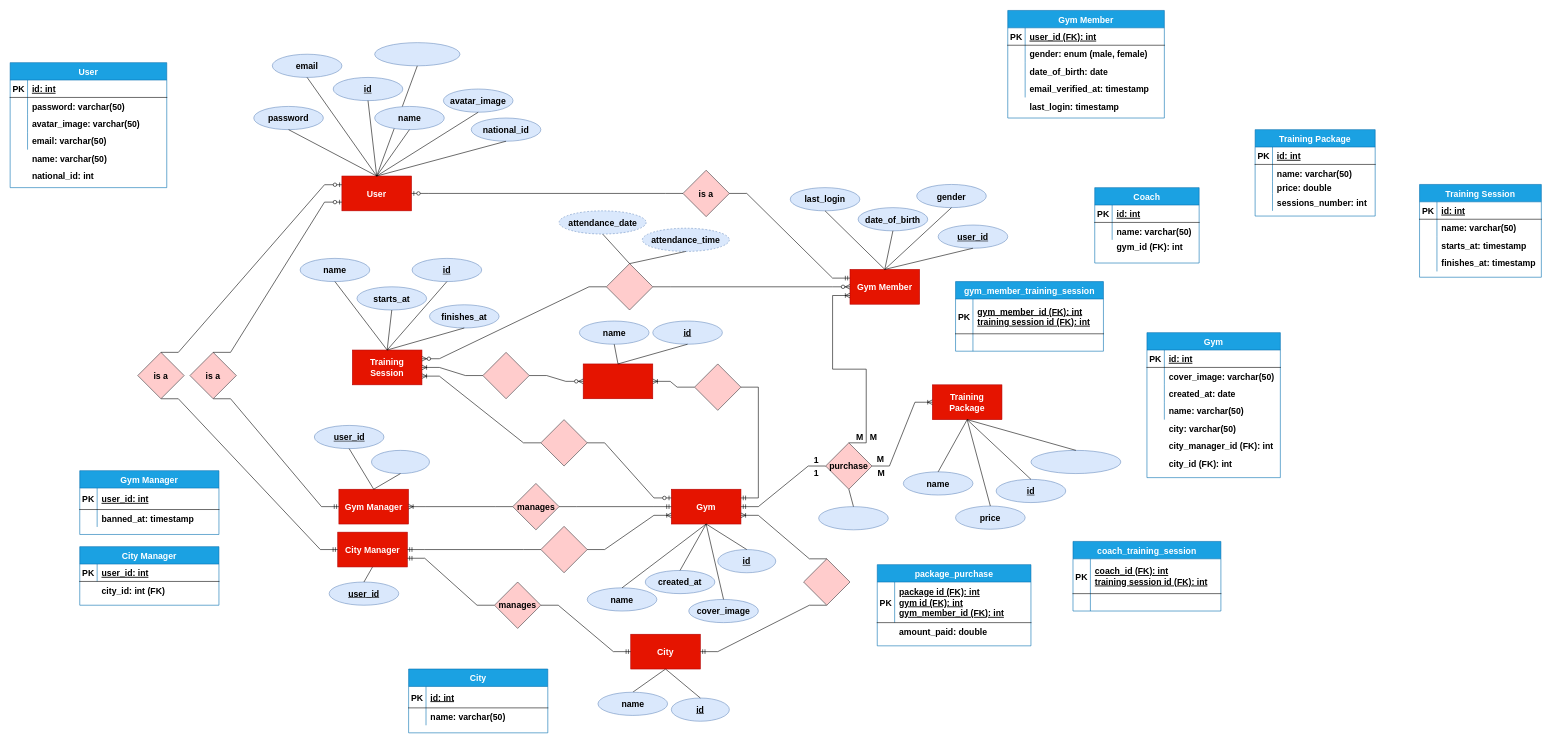
Some shapes in this 1552 by 743 pixel diagram are drawn without their labels. The centre of each missing label's shape, as x and y in pixels:
"amount_paid" belongs at pixel 853 518.
"attends" belongs at pixel 629 286.
"banned_at" belongs at pixel 400 462.
"Coaches" belongs at pixel 618 381.
"email_verified_at" belongs at pixel 417 54.
"has" belongs at pixel 563 442.
"has a" belongs at pixel 826 581.
"sessions_number" belongs at pixel 1075 462.
"supervise" belongs at pixel 563 549.
"train" belongs at pixel 505 375.
"work_on" belongs at pixel 717 386.
